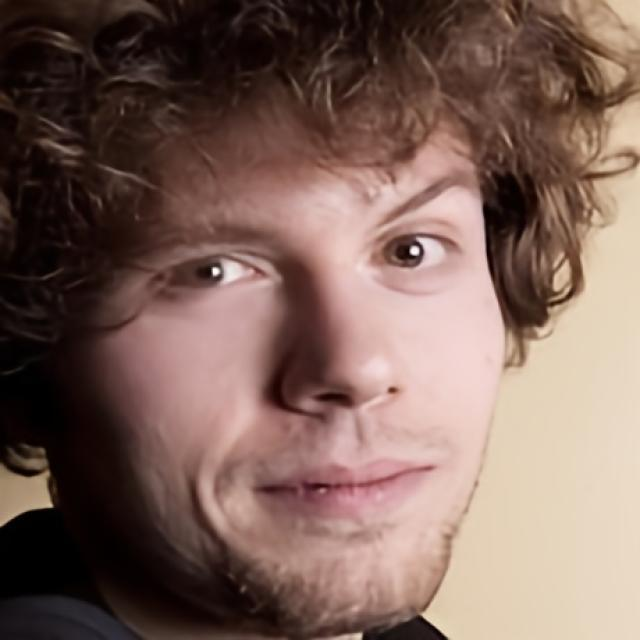content: (48, 31, 509, 640)
